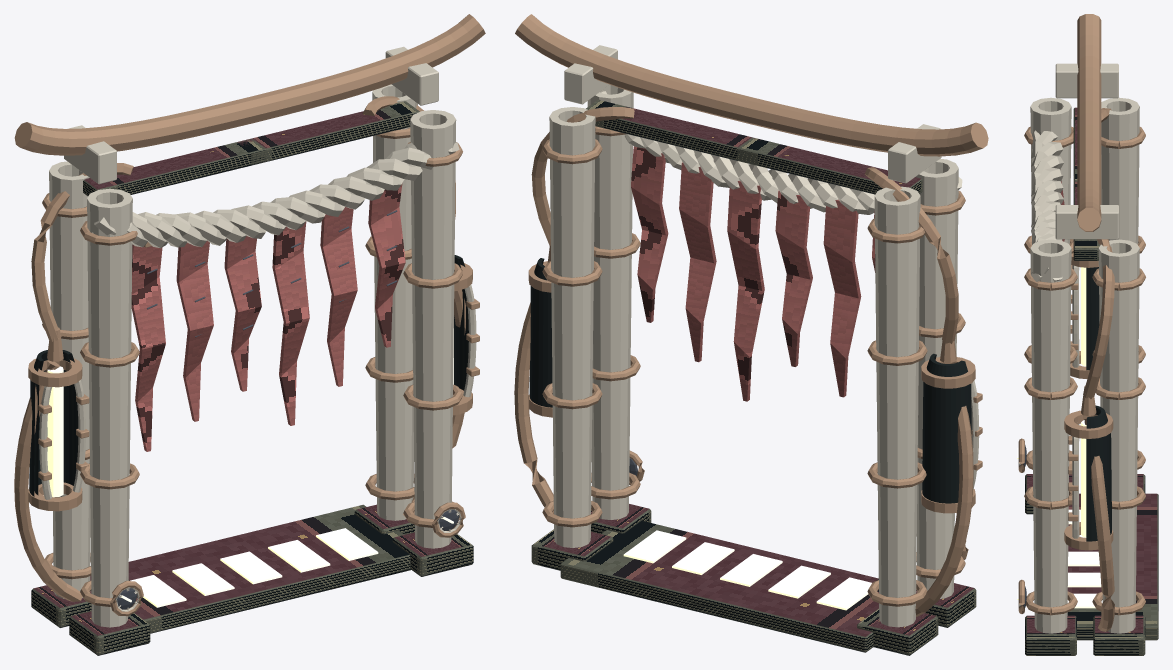
Rendered from foundry_bound_furnace.glb.
3 renders of one model, left to right at view 1: azimuth 30°, elevation 25°; view 2: azimuth 150°, elevation 25°; view 3: azimuth 270°, elevation 25°, orthographic. The views are drawn at different scales.
Parts seen in each view (by area): view 1: foundry_bound_furnace_warm, foundry_bound_furnace_petrol, foundry_bound_furnace_worn, foundry_bound_furnace_suture, foundry_bound_furnace_sick, foundry_bound_furnace_deep; view 2: foundry_bound_furnace_warm, foundry_bound_furnace_petrol, foundry_bound_furnace_worn, foundry_bound_furnace_suture, foundry_bound_furnace_sick; view 3: foundry_bound_furnace_warm, foundry_bound_furnace_worn, foundry_bound_furnace_petrol, foundry_bound_furnace_sick.
Boxes of the visible parts, x1,y1,x2,y2 form: foundry_bound_furnace_warm: [39, 46, 476, 627]; foundry_bound_furnace_petrol: [29, 101, 473, 655]; foundry_bound_furnace_worn: [14, 14, 485, 616]; foundry_bound_furnace_suture: [131, 183, 405, 451]; foundry_bound_furnace_sick: [47, 328, 453, 607]; foundry_bound_furnace_deep: [115, 210, 458, 609]; foundry_bound_furnace_warm: [549, 45, 979, 627]; foundry_bound_furnace_petrol: [529, 99, 976, 655]; foundry_bound_furnace_worn: [514, 14, 988, 616]; foundry_bound_furnace_suture: [631, 146, 875, 401]; foundry_bound_furnace_sick: [623, 530, 871, 610]; foundry_bound_furnace_warm: [1019, 63, 1139, 633]; foundry_bound_furnace_worn: [1018, 14, 1145, 631]; foundry_bound_furnace_petrol: [1025, 107, 1158, 655]; foundry_bound_furnace_sick: [1017, 267, 1102, 608].
Size of the model in its own units: 6.78 by 7.19 by 1.99.
6 materials, 2 textured.
